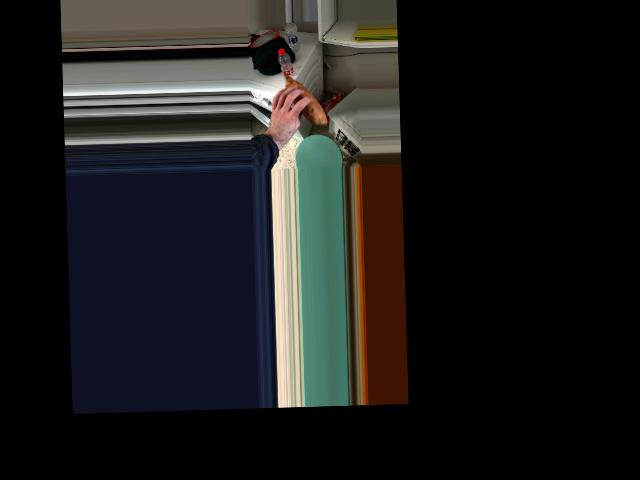sweet_potato: (273, 77, 325, 120)
